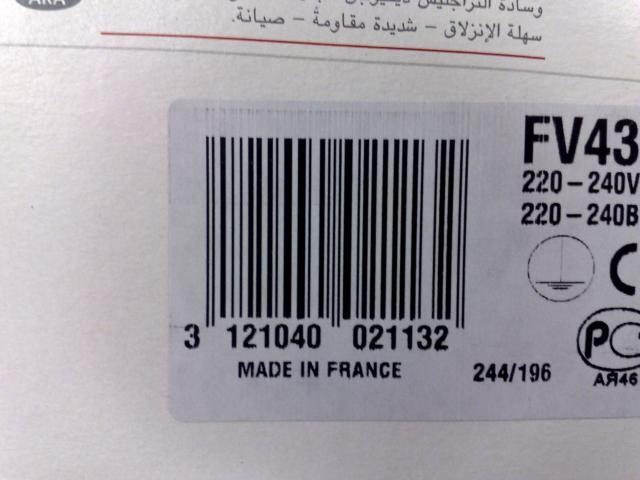Barcode: (173, 133, 477, 359)
